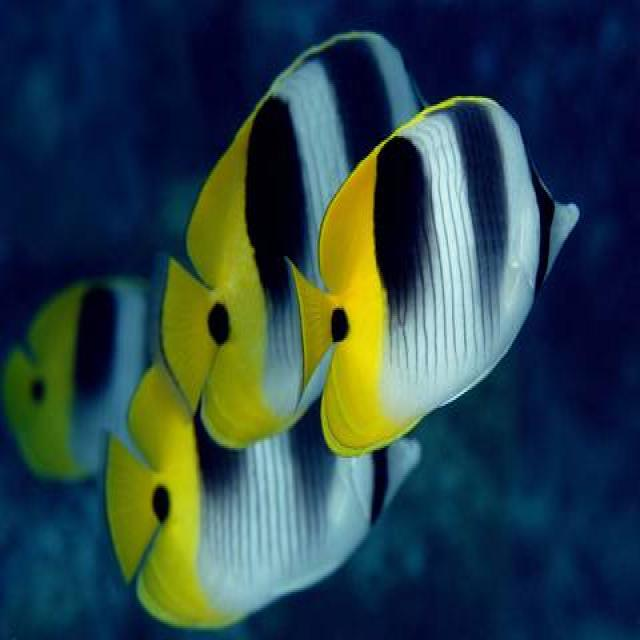ButterflyFish: (150, 29, 425, 447), (291, 99, 580, 456), (114, 376, 421, 633)
